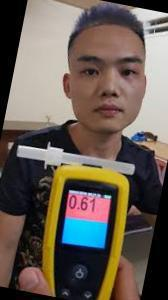Drunk: (74, 25, 145, 131)
